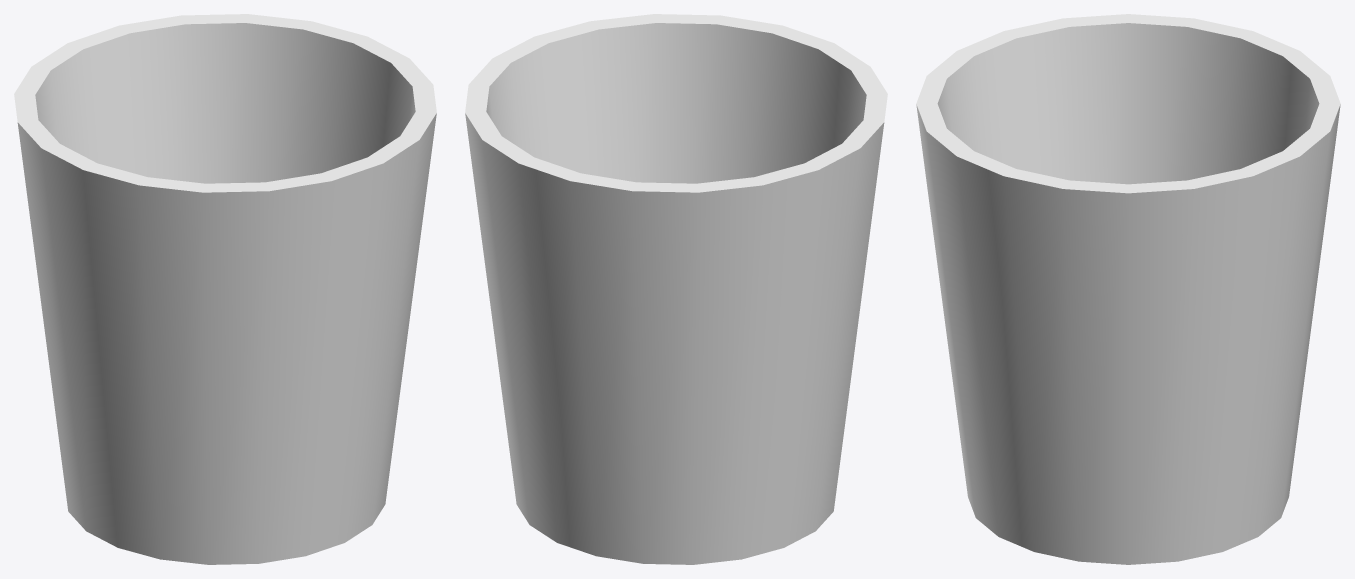
File: Cup.fbx
3 renders of one model, left to right at view 1: azimuth 30°, elevation 25°; view 2: azimuth 150°, elevation 25°; view 3: azimuth 270°, elevation 25°, orthographic.
Parts seen in each view (by area): view 1: pCylinder1; view 2: pCylinder1; view 3: pCylinder1.
Boxes of the visible parts, x1,y1,x2,y2 form: pCylinder1: (14, 14, 436, 564); pCylinder1: (465, 14, 887, 564); pCylinder1: (916, 14, 1340, 564).
Bounding box in the file's own units: 0.6864 × 0.702 × 0.6864.
